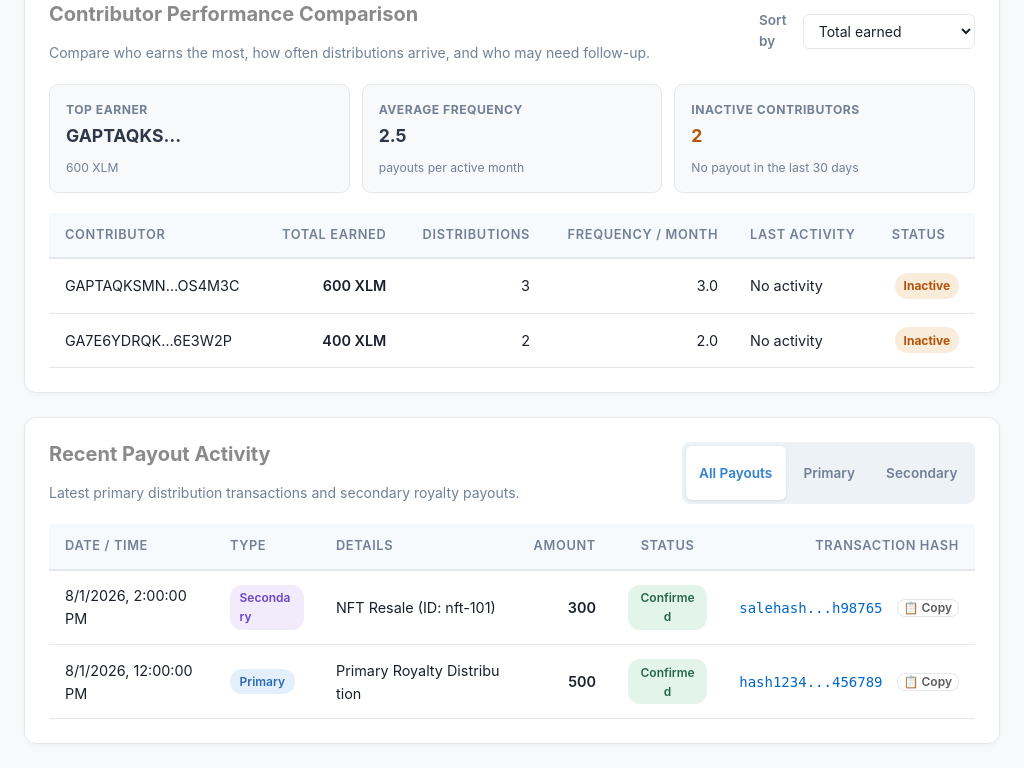
Scenario: EarningsDashboard Component › filters recent payouts using tab buttons
The image size is (1024, 768).
(page scrolled)
Click the tab "Primary" at (829, 473), box x1=790 y1=446 x2=869 y2=500
(page scrolled)
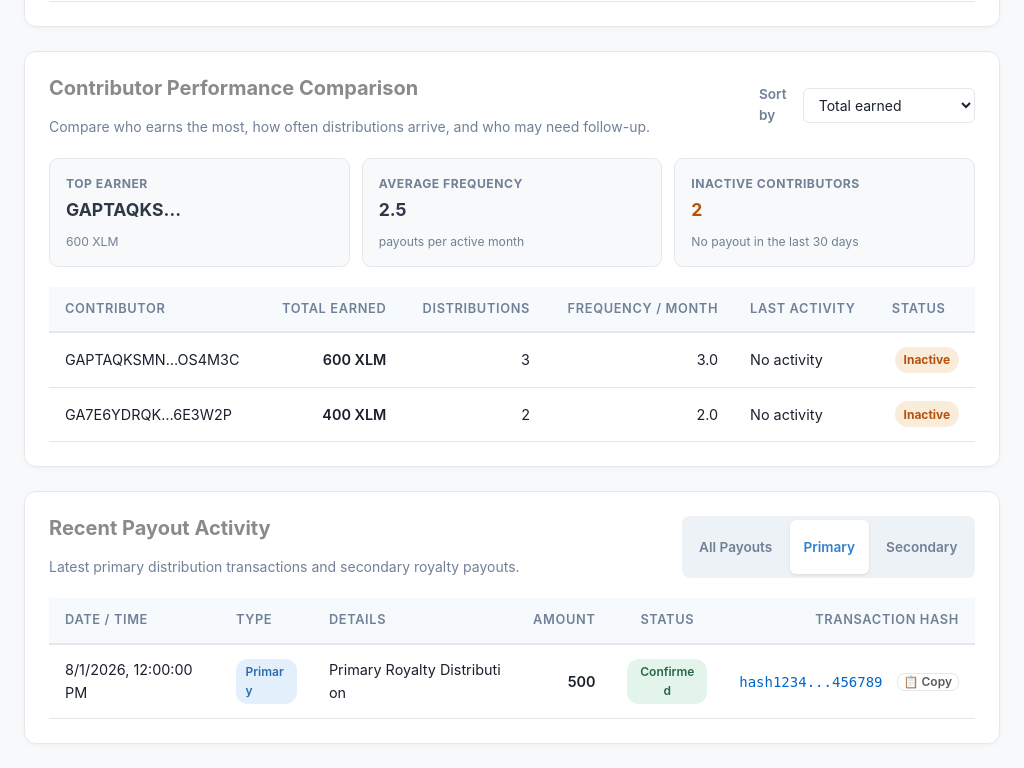
Expected: the text "Primary Royalty Distribution" is shown, x1=313 y1=644 x2=517 y2=719
Expected: the text "NFT Resale" is gone
